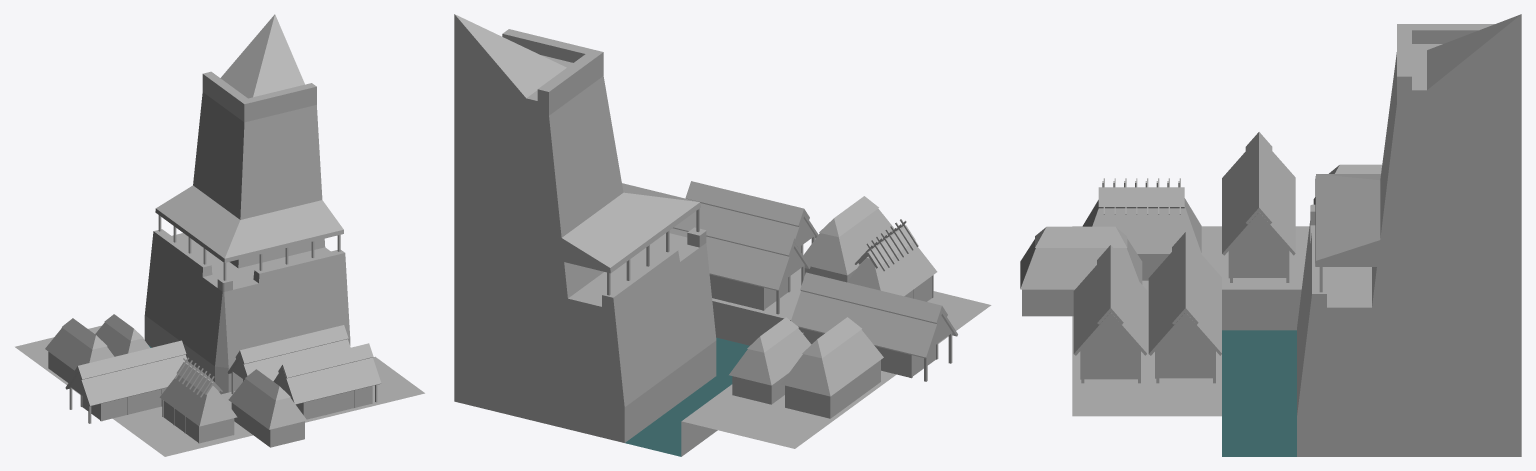
File: rcr1.obj
The picture shows the model from 3 angles, left to right: view 1: azimuth 30°, elevation 25°; view 2: azimuth 150°, elevation 25°; view 3: azimuth 270°, elevation 25°; orthographic projection. The views are drawn at different scales.
Parts seen in each view (by area): view 1: rcr1; view 2: rcr1; view 3: rcr1.
Part boxes in pixels (<box>): rcr1: <box>15,14,424,456</box>; rcr1: <box>454,14,991,456</box>; rcr1: <box>1020,14,1521,456</box>.
Bounding box in the file's own units: 32.84 × 32.63 × 33.48.
